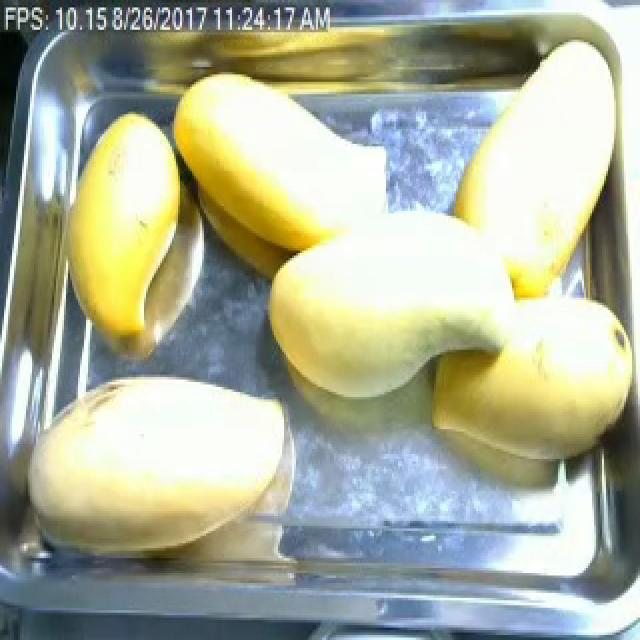fruit: (442, 25, 632, 317), (8, 422, 284, 585), (254, 246, 468, 429), (404, 320, 640, 484), (60, 99, 196, 365), (160, 64, 336, 268)
